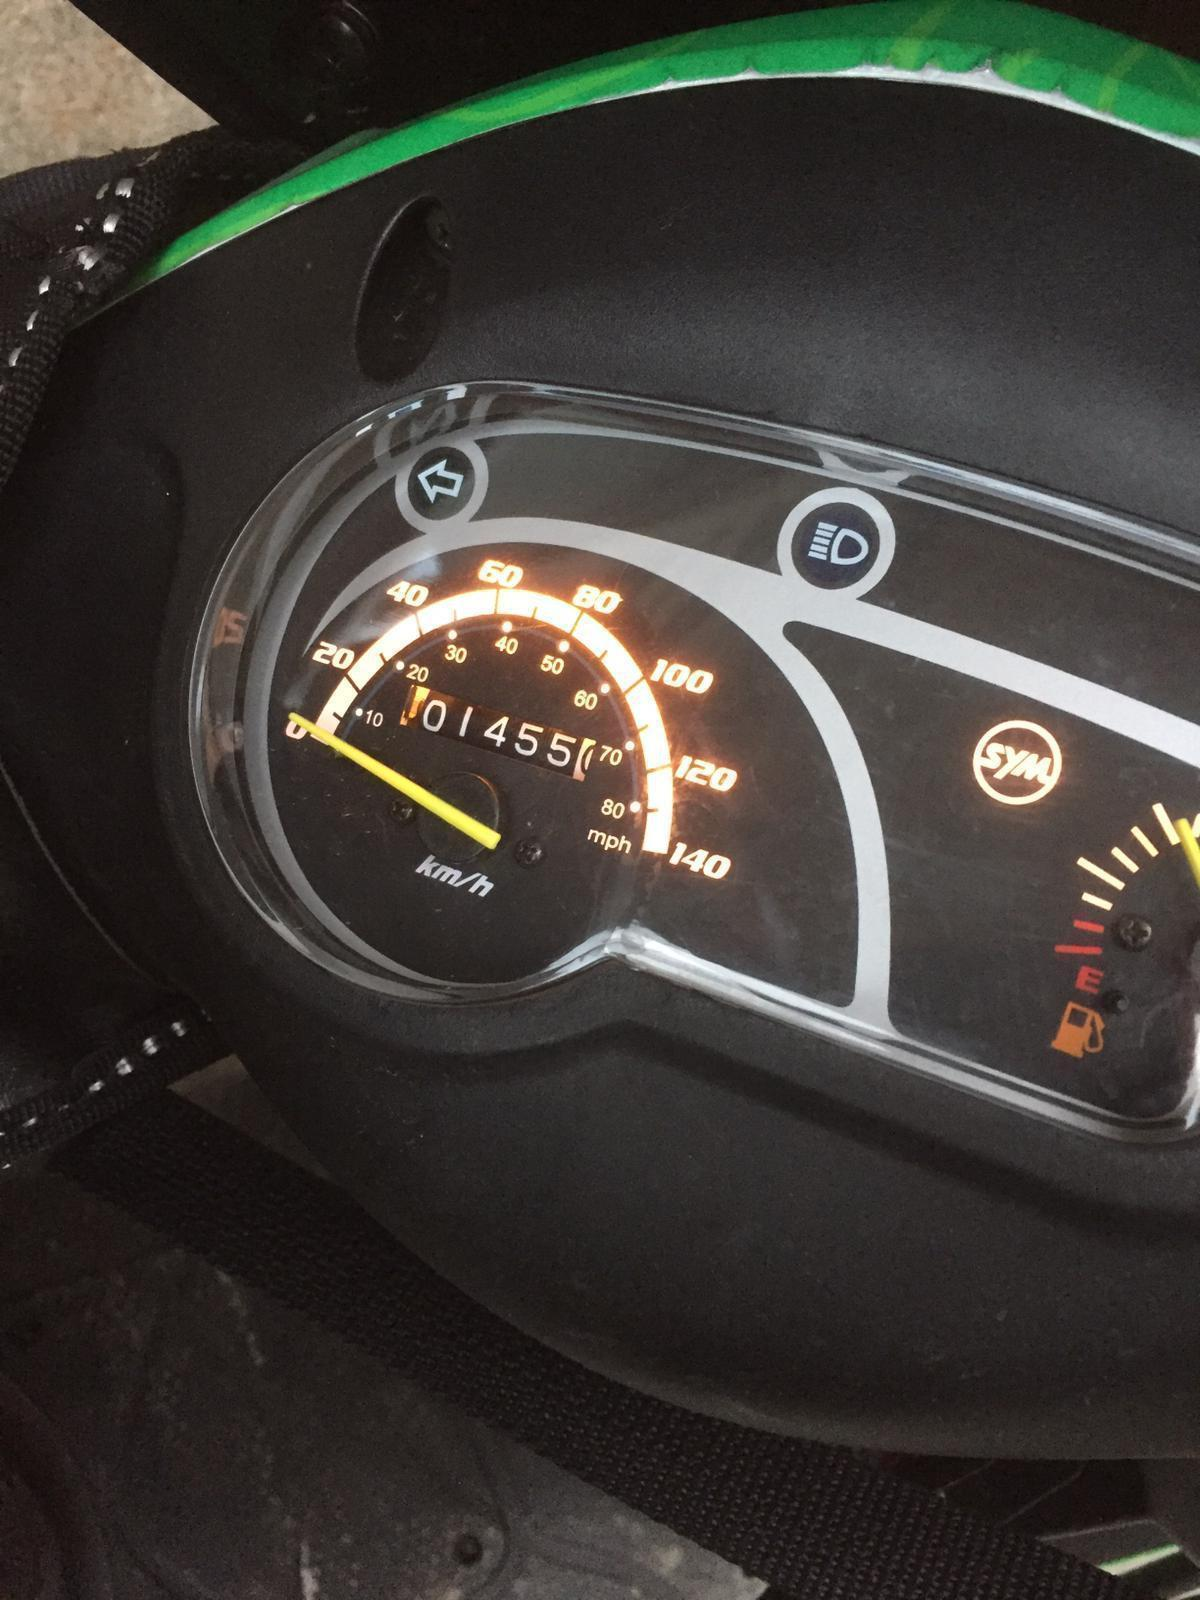0: (418, 695, 447, 736), (580, 740, 597, 779), (586, 690, 597, 712)
1: (456, 703, 474, 743)
4: (482, 712, 509, 750)
5: (545, 729, 577, 766), (513, 721, 545, 758)
6: (574, 687, 586, 707)
odometer: (393, 680, 599, 784)
